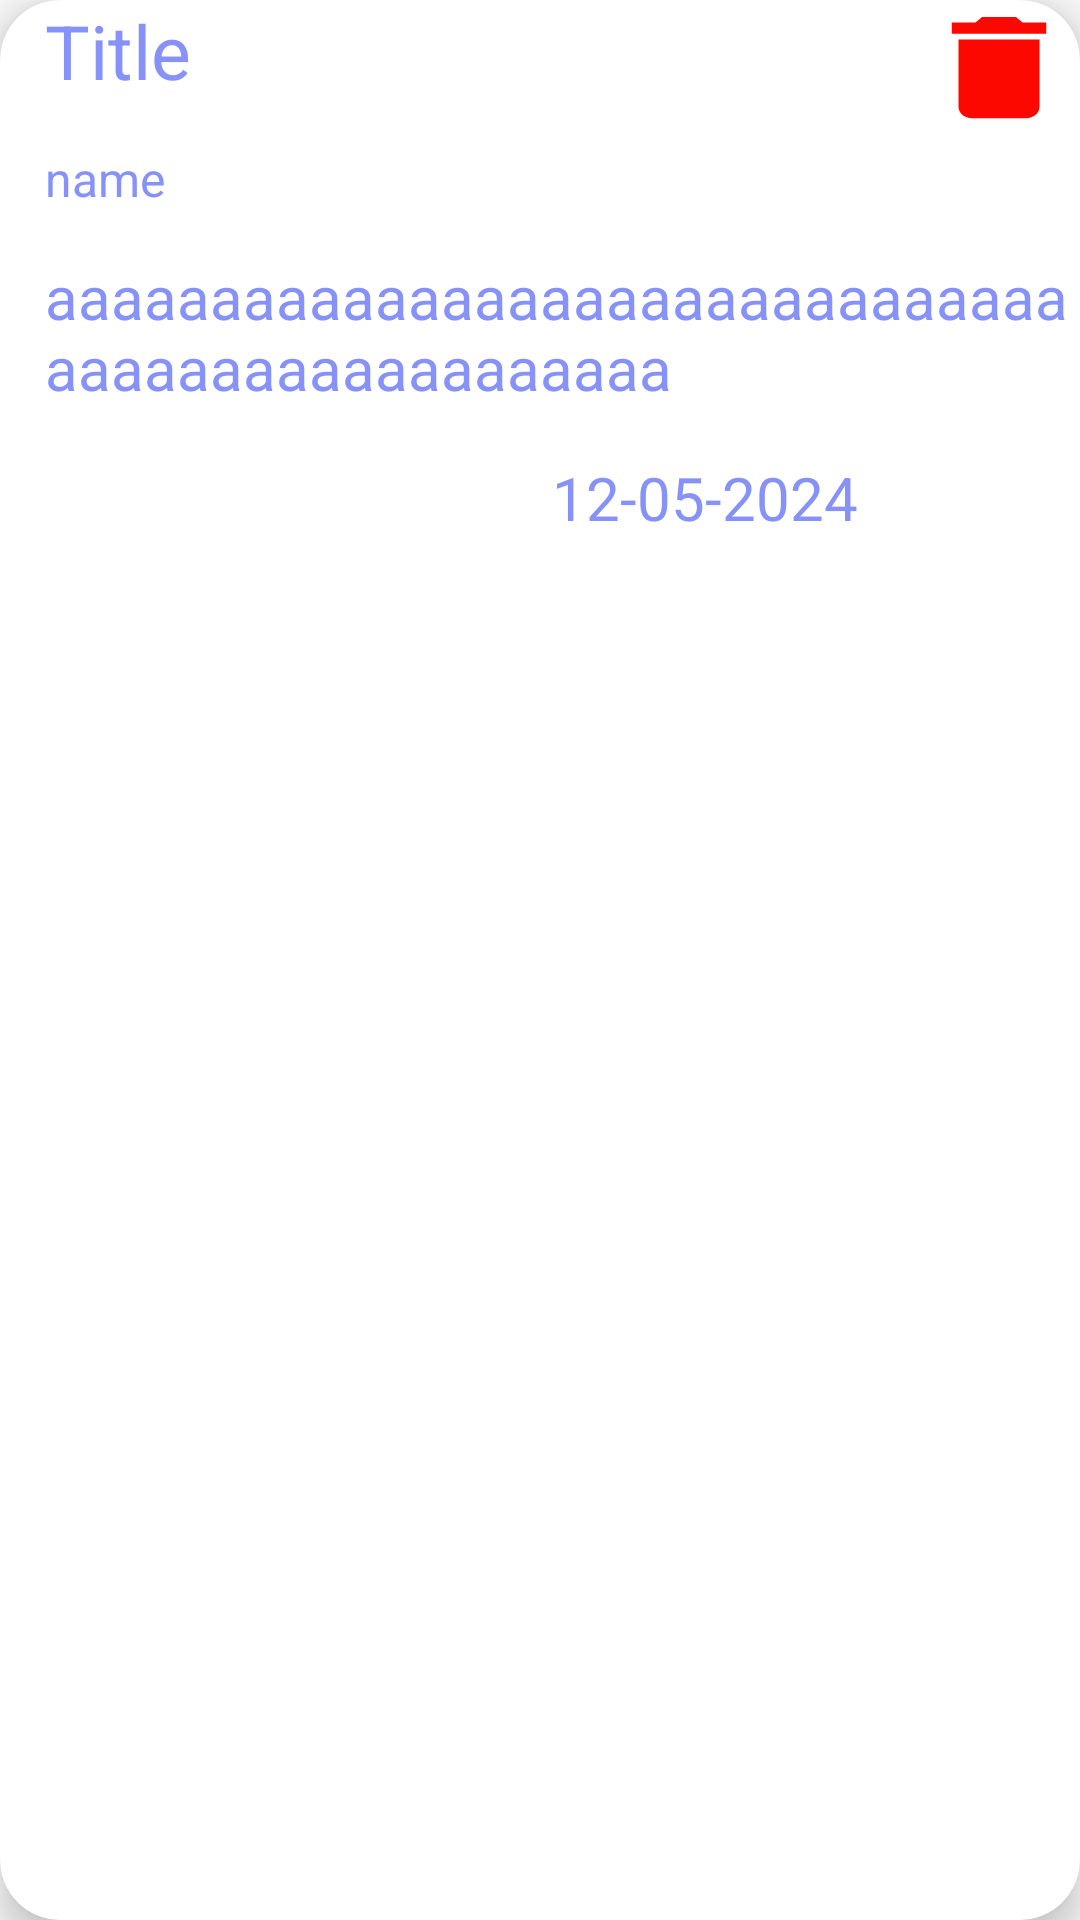

Where to tap for icons on this 1080*1920 app screen, as point (x, y):
delete: point (1015, 59)
